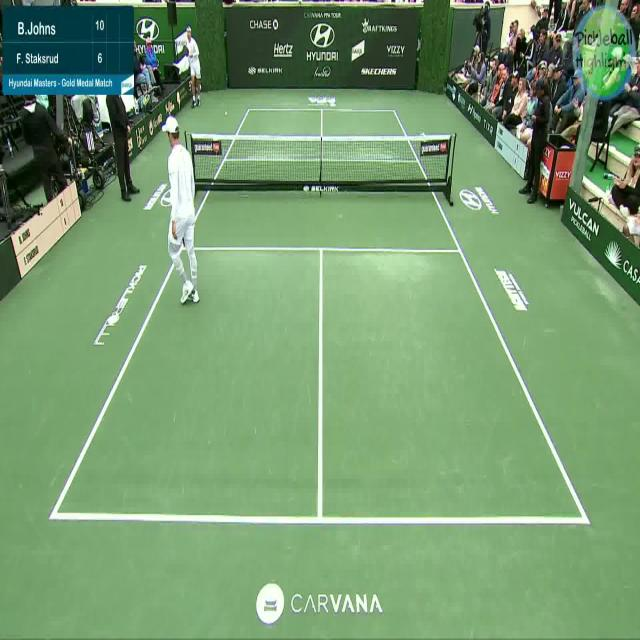ball: (224, 110, 228, 117)
